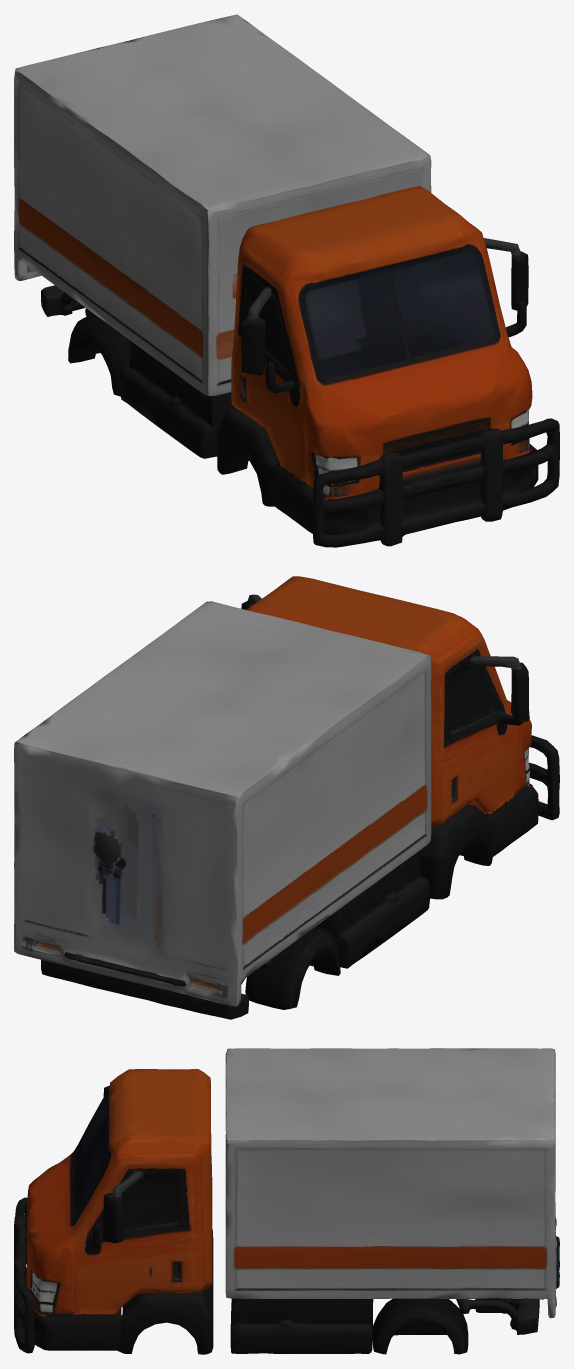
Rendered from truck_raw.glb.
The picture shows the model from 3 angles, top to bottom: view 1: azimuth 30°, elevation 25°; view 2: azimuth 150°, elevation 25°; view 3: azimuth 270°, elevation 25°; orthographic projection. The views are drawn at different scales.
Visible parts, largest first — view 1: world; view 2: world; view 3: world.
Boxes of the visible parts, x1=… form: world: x1=14, y1=14, x2=559, y2=547; world: x1=14, y1=576, x2=559, y2=1019; world: x1=14, y1=1048, x2=559, y2=1354.
Bounding box in the file's own units: 0.5166 × 0.4464 × 1.
Materials: 1 (1 with a texture image).
